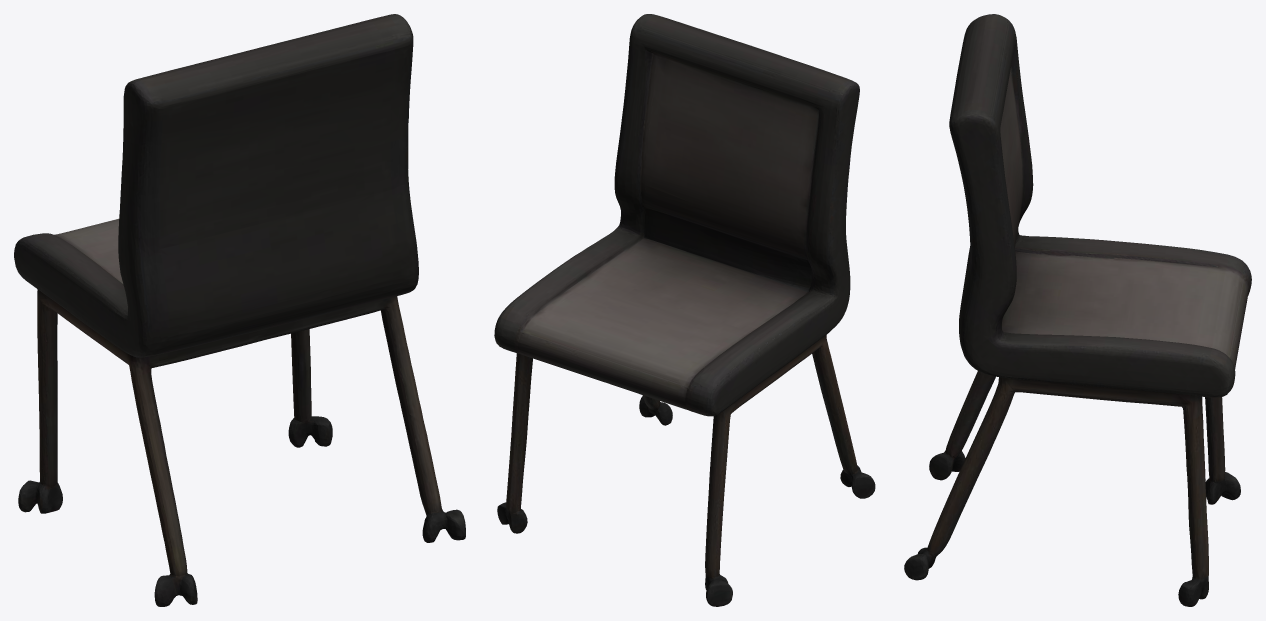
File: black_mesh_office_chair_at_far_end_of_table_000.glb
The picture shows the model from 3 angles, left to right: view 1: azimuth 30°, elevation 25°; view 2: azimuth 150°, elevation 25°; view 3: azimuth 270°, elevation 25°; orthographic projection. The views are drawn at different scales.
Parts seen in each view (by area): view 1: black_mesh_office_chair_at_far_end_of_table_000.obj; view 2: black_mesh_office_chair_at_far_end_of_table_000.obj; view 3: black_mesh_office_chair_at_far_end_of_table_000.obj.
Boxes of the visible parts, box(x1,y1,x2,y2) form: black_mesh_office_chair_at_far_end_of_table_000.obj: box(14, 14, 465, 606); black_mesh_office_chair_at_far_end_of_table_000.obj: box(494, 14, 875, 606); black_mesh_office_chair_at_far_end_of_table_000.obj: box(904, 14, 1251, 606).
Size of the model in its own units: 0.3786 by 0.6261 by 0.4061.
1 material, 1 textured.
